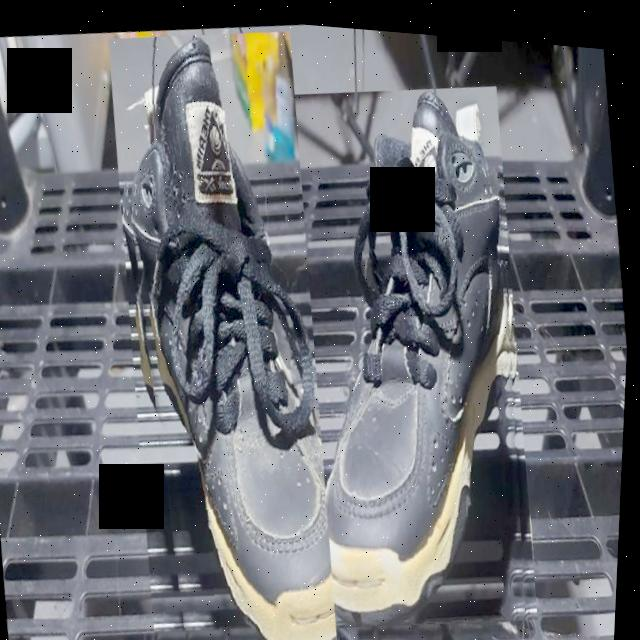shoe: (87, 14, 366, 640), (277, 64, 561, 634)
